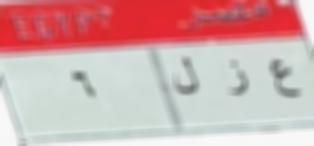6: (68, 66, 101, 103)
ain: (267, 58, 302, 103)
laam: (169, 54, 202, 102)
zay: (221, 58, 250, 98)
